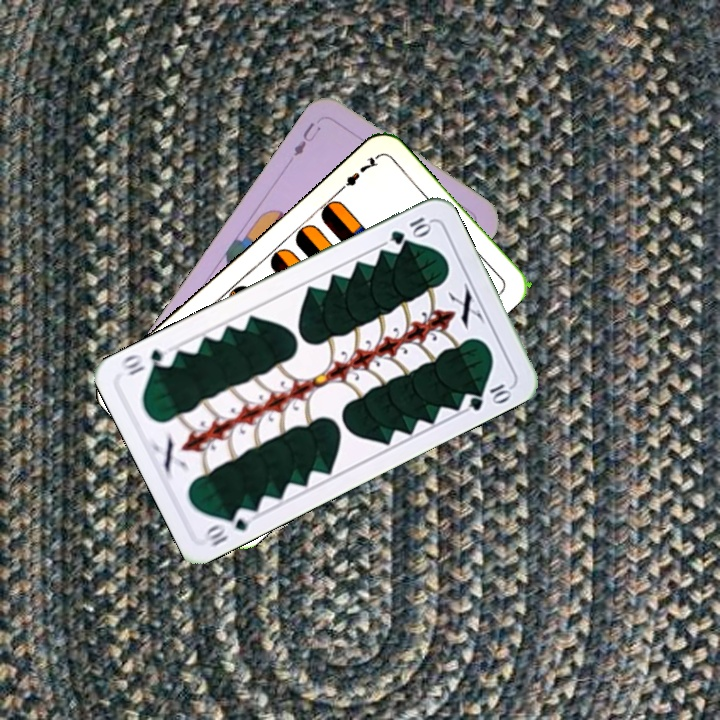E7: (333, 152, 381, 196)
EU: (289, 118, 324, 159)
G10: (201, 503, 258, 550), (386, 213, 435, 247)
